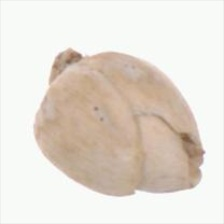L3: (126, 109, 206, 196)
L4: (34, 48, 205, 197)
